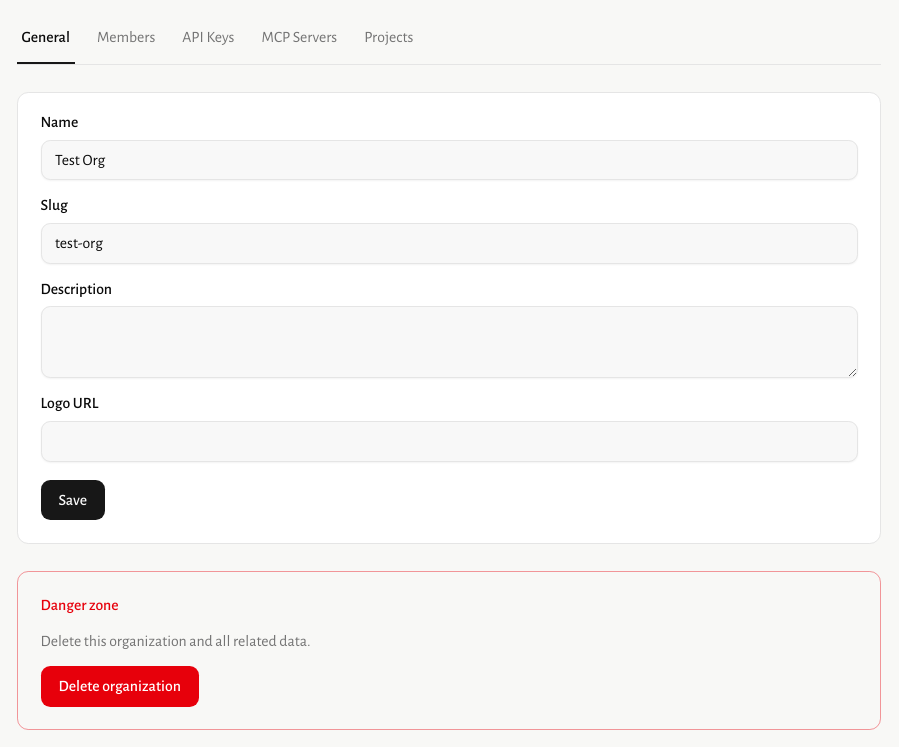
it: OrganizationSettings › should show OrgCredentialsPanel when API Keys tab is clicked
This screenshot has width=899, height=747.
Step 1. Click the tab "API Keys" → (208,38), box [178,12,239,64]
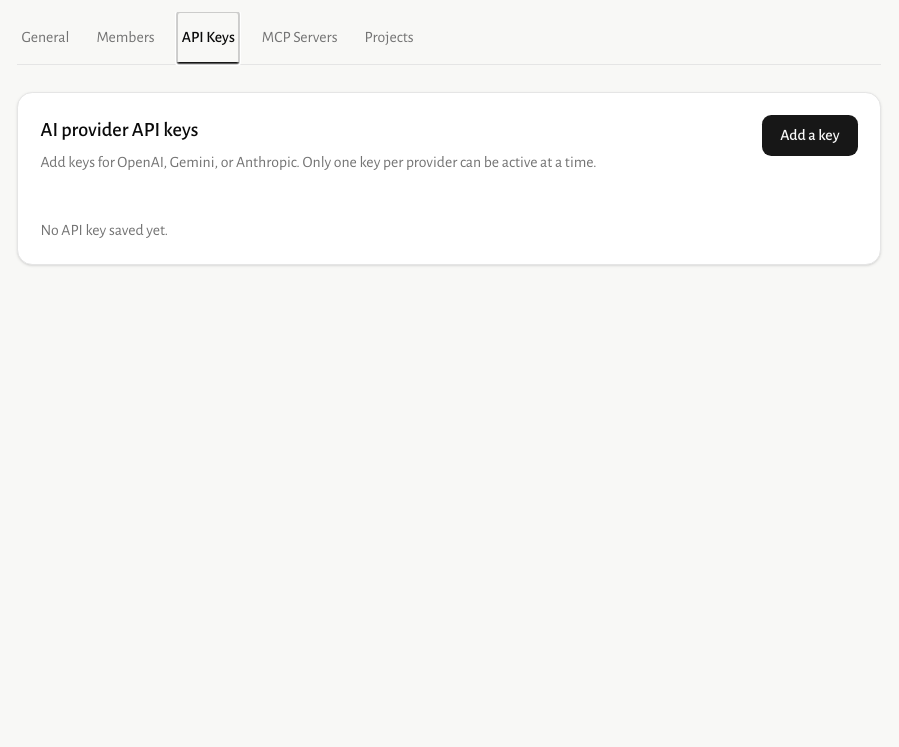
Result: the heading "AI provider API keys" is shown at [40,120,198,140]
